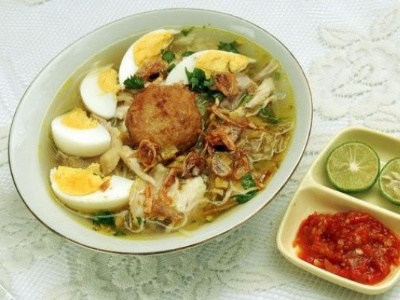soto: (44, 29, 276, 215)
